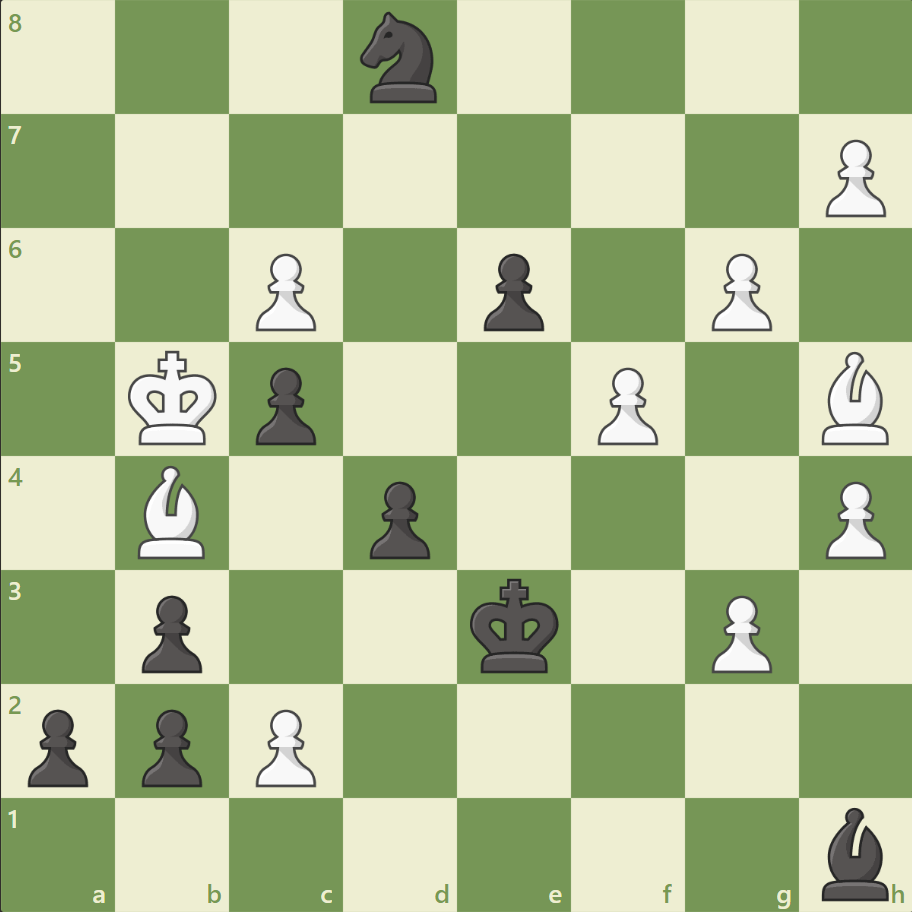B: (131, 460, 215, 563), (812, 347, 896, 449)
K: (124, 344, 224, 452)
P: (247, 246, 322, 337), (701, 246, 776, 337), (701, 586, 776, 677), (247, 700, 322, 791), (815, 132, 889, 223), (588, 359, 662, 450), (815, 473, 889, 564)
b: (812, 801, 896, 904)
k: (465, 571, 565, 679)
n: (351, 7, 449, 110)
p: (474, 246, 549, 337), (247, 359, 322, 450), (133, 586, 208, 677), (20, 700, 95, 791), (133, 700, 208, 791), (361, 473, 435, 564)
